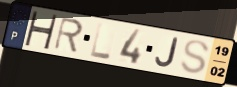4: (117, 27, 145, 67)
H: (23, 9, 60, 51)
J: (153, 36, 180, 69)
L: (88, 21, 112, 62)
R: (52, 16, 85, 55)
S: (179, 38, 212, 76)
